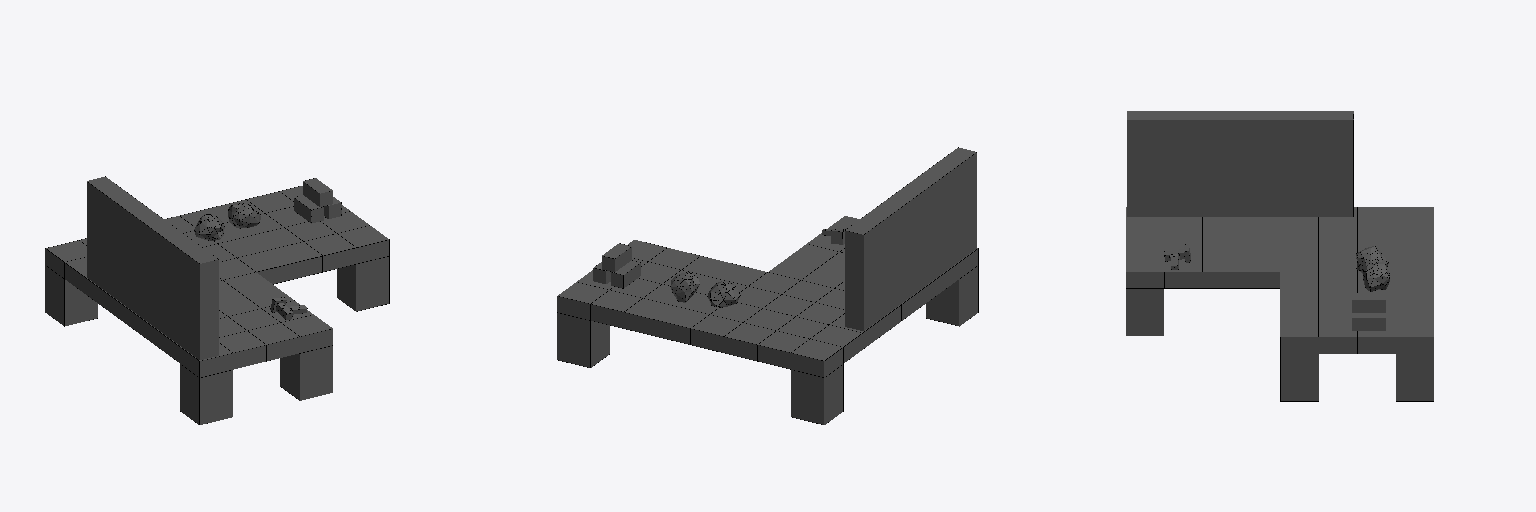
The picture shows the model from 3 angles: view 1: azimuth 30°, elevation 25°; view 2: azimuth 150°, elevation 25°; view 3: azimuth 270°, elevation 25°; orthographic projection.
Visible parts, largest first — view 1: table_Cube.026, stone_Cube.027; view 2: table_Cube.026, stone_Cube.027; view 3: table_Cube.026, stone_Cube.027.
Part boxes in pixels (bbox=[...]): table_Cube.026: bbox=[45, 186, 389, 424]; stone_Cube.027: bbox=[87, 176, 341, 359]; table_Cube.026: bbox=[557, 216, 978, 424]; stone_Cube.027: bbox=[593, 147, 976, 330]; table_Cube.026: bbox=[1126, 207, 1433, 401]; stone_Cube.027: bbox=[1127, 111, 1389, 330].
Bounding box in the file's own units: 2 × 1.15 × 2.
Materials: 2 (2 with a texture image).